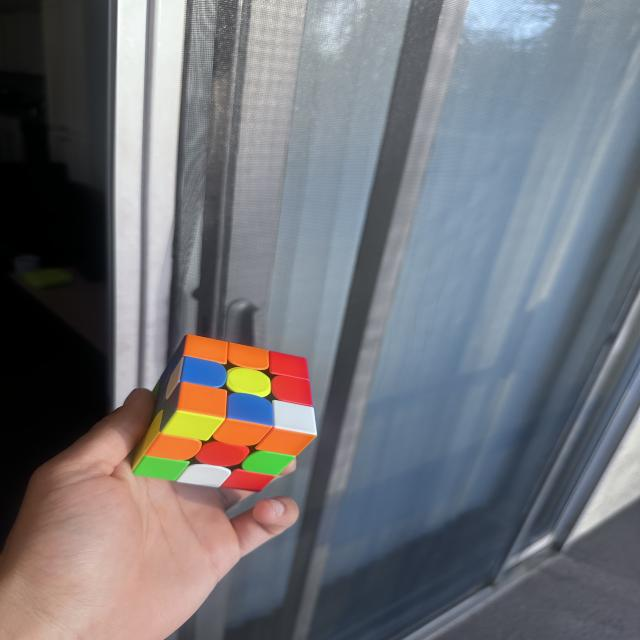sticker: (153, 379, 228, 443), (210, 390, 274, 447), (130, 408, 166, 471), (162, 408, 224, 442), (176, 381, 228, 419), (256, 424, 316, 456), (270, 399, 319, 437), (212, 416, 270, 448), (143, 432, 202, 462), (226, 392, 274, 428), (174, 462, 233, 488), (270, 373, 314, 407), (182, 356, 227, 389), (131, 455, 188, 481), (266, 350, 312, 381), (184, 334, 228, 366), (242, 450, 296, 476), (197, 441, 250, 467), (218, 468, 275, 492), (226, 367, 270, 397), (227, 341, 269, 370)
